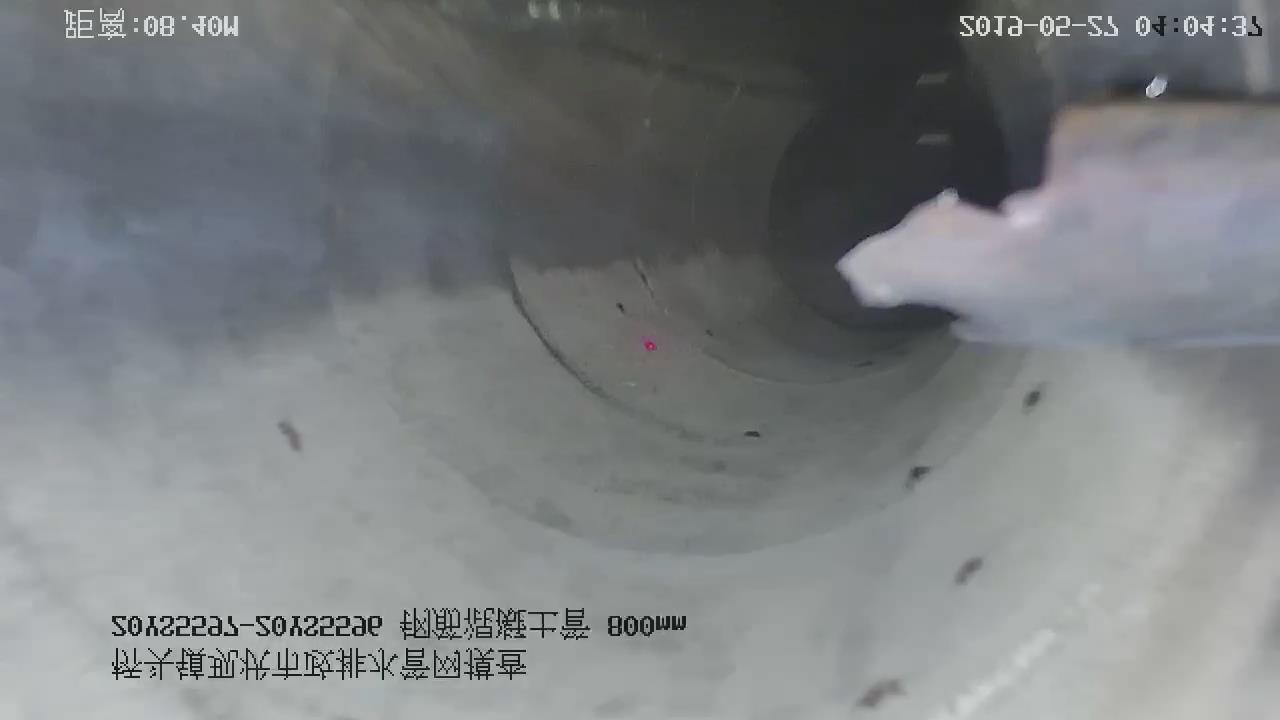ZGAJ: (837, 98, 1279, 348)
